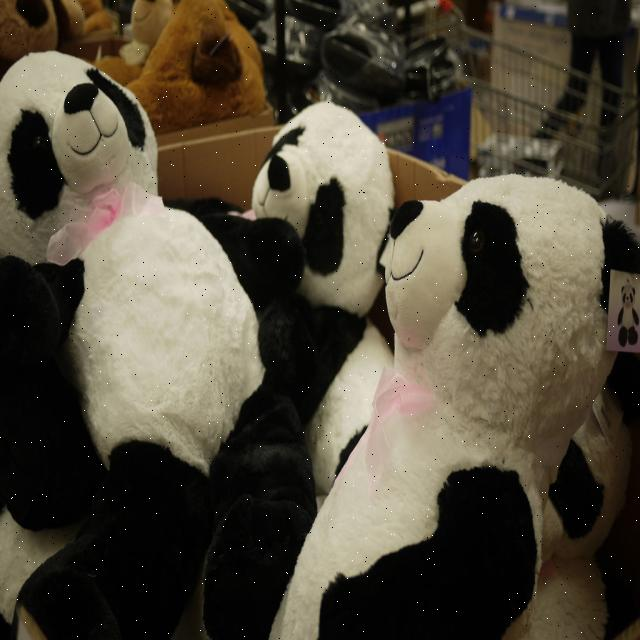panda: (0, 48, 303, 640), (268, 164, 640, 640), (234, 93, 397, 500)
